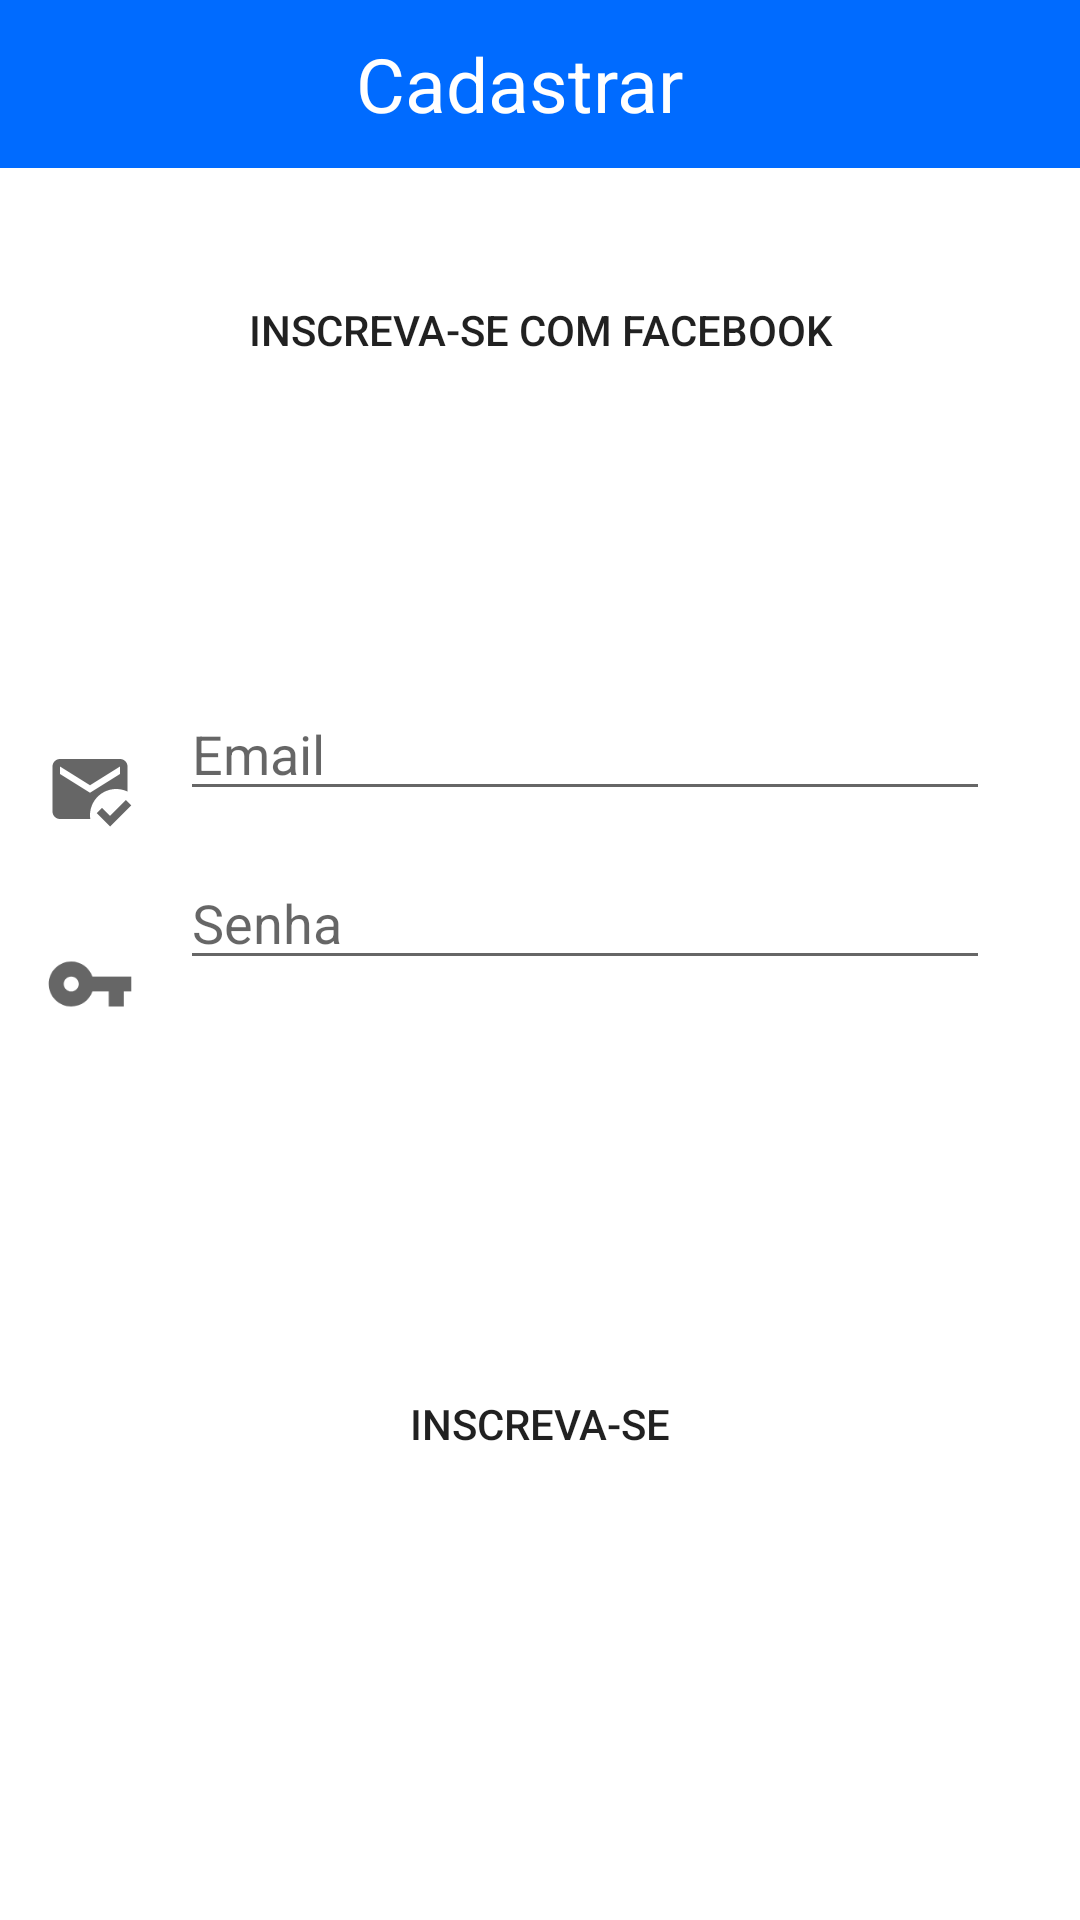

Icons on this 1080 × 1920 Android screen, each with the point to tap as point (x, y):
key: point (90, 984)
